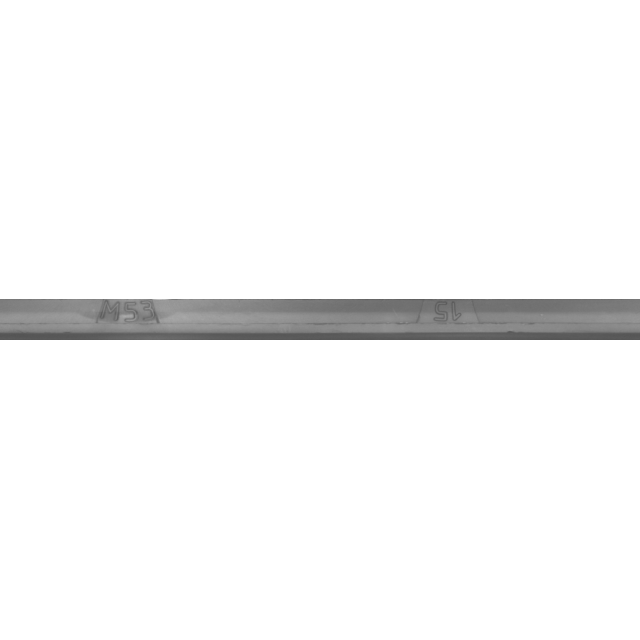mohao: (21, 270, 221, 370)
xuehao: (357, 270, 557, 370)
